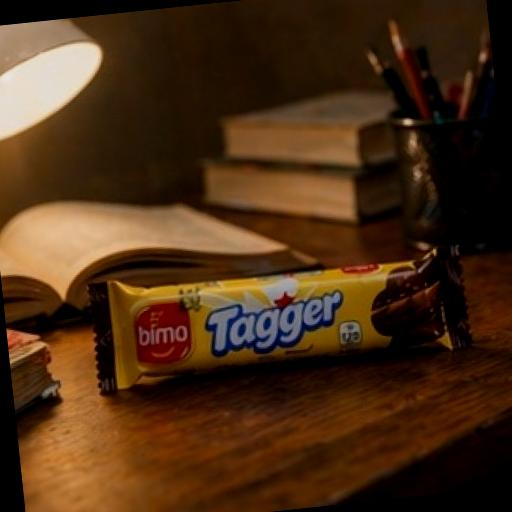tagger: (63, 223, 512, 443)
